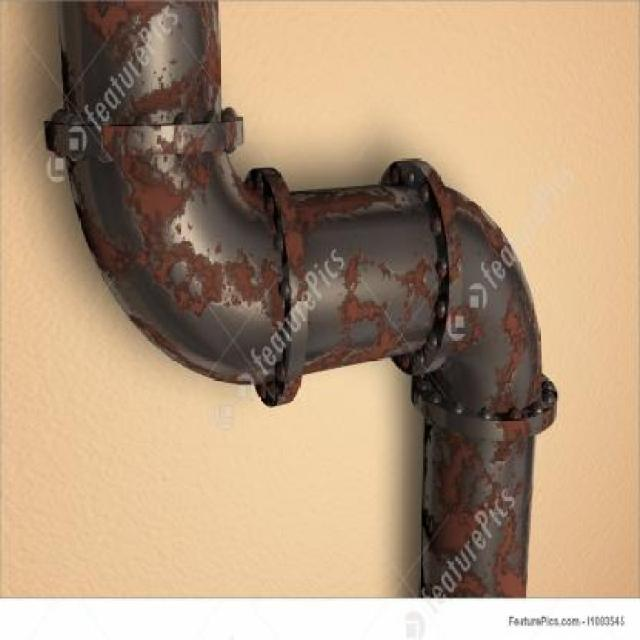corrosion: (44, 2, 562, 600)
